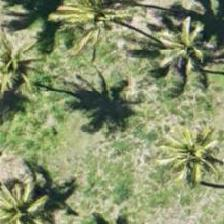coconut_tree: (136, 0, 223, 84), (0, 33, 72, 123), (154, 117, 223, 207), (52, 0, 142, 66)
